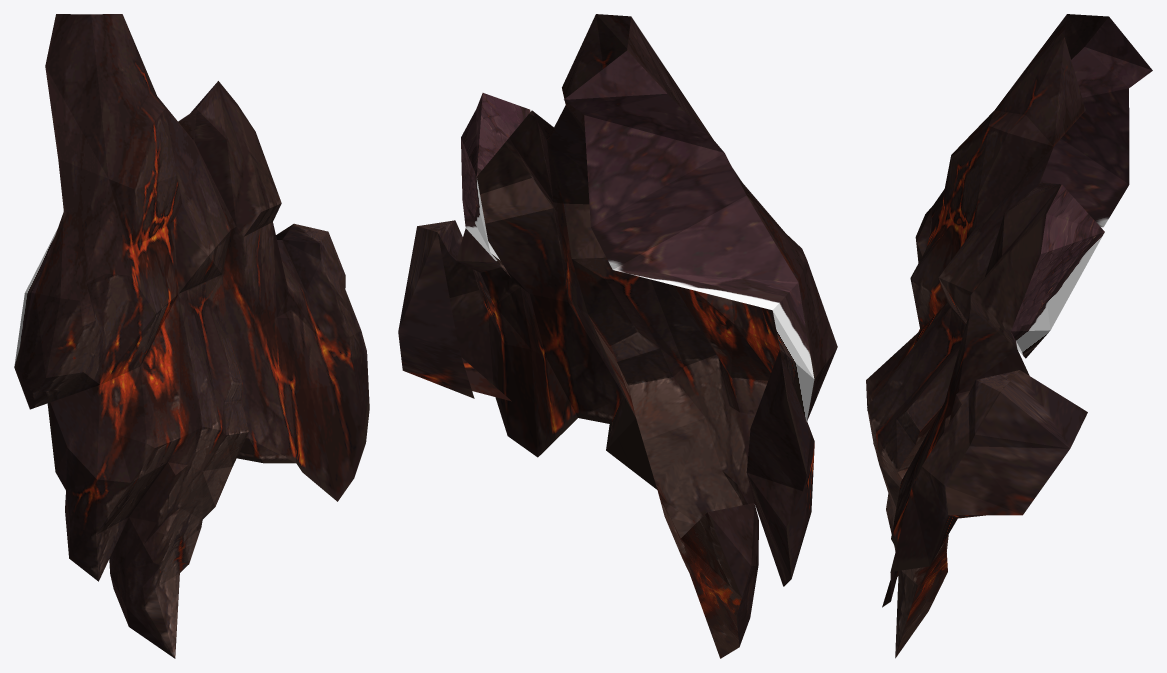
Rendered from sn_jingyanFB_shanshi01_02.FBX.
The picture shows the model from 3 angles, left to right: view 1: azimuth 30°, elevation 25°; view 2: azimuth 150°, elevation 25°; view 3: azimuth 270°, elevation 25°; orthographic projection. The views are drawn at different scales.
Parts seen in each view (by area): view 1: sn_jingyanFB_shanshi01_02; view 2: sn_jingyanFB_shanshi01_02; view 3: sn_jingyanFB_shanshi01_02.
Part boxes in pixels (<box>): sn_jingyanFB_shanshi01_02: <box>14,14,369,658</box>; sn_jingyanFB_shanshi01_02: <box>398,14,837,658</box>; sn_jingyanFB_shanshi01_02: <box>866,14,1152,658</box>.
Size of the model in its own units: 2563 by 1741 by 4298.
